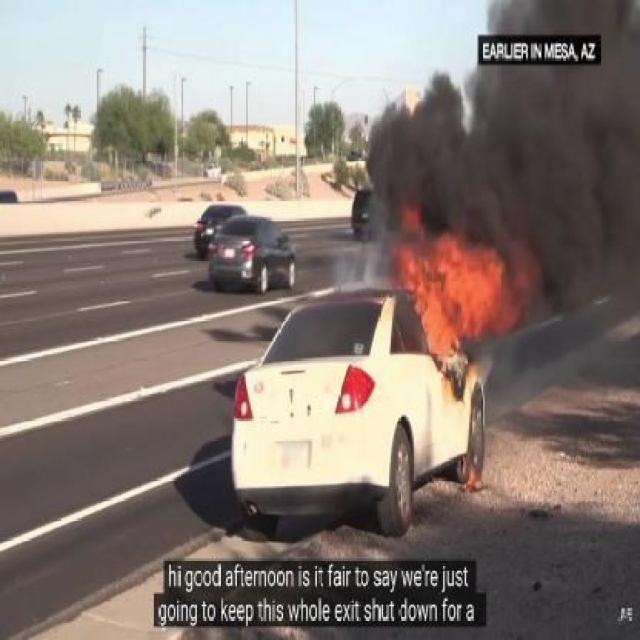Fire: (364, 198, 583, 428)
Smoke: (451, 70, 634, 231)
